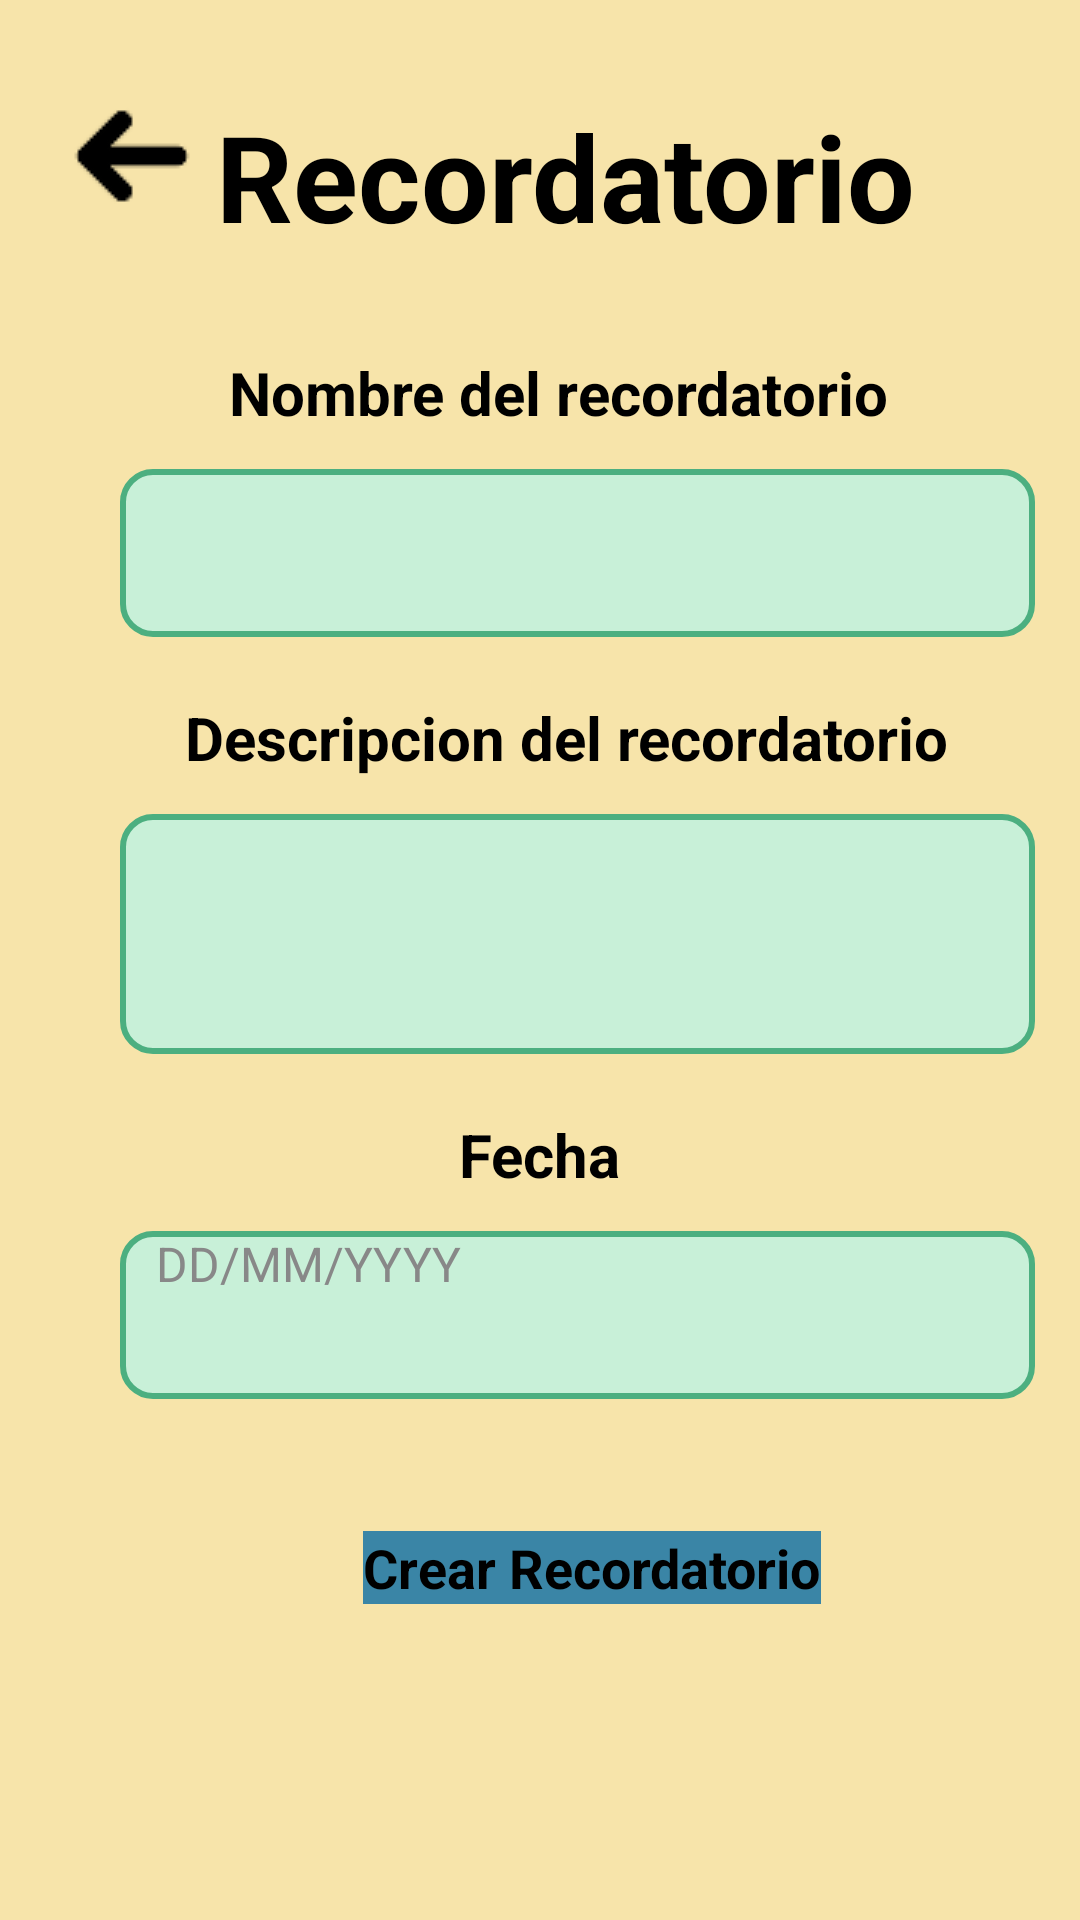

Screen size 1080px x 1920px. Icon name, then its center in pixels as (x=x, y=y):
izq: (x=132, y=156)
